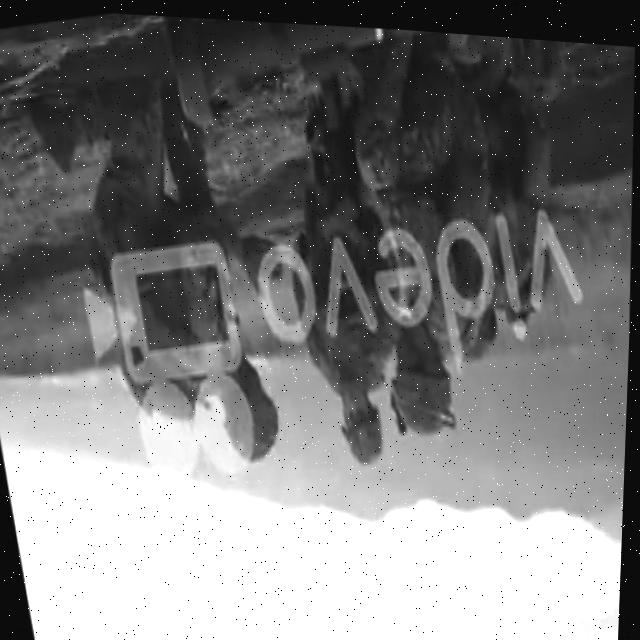rocket: (159, 9, 488, 143)
